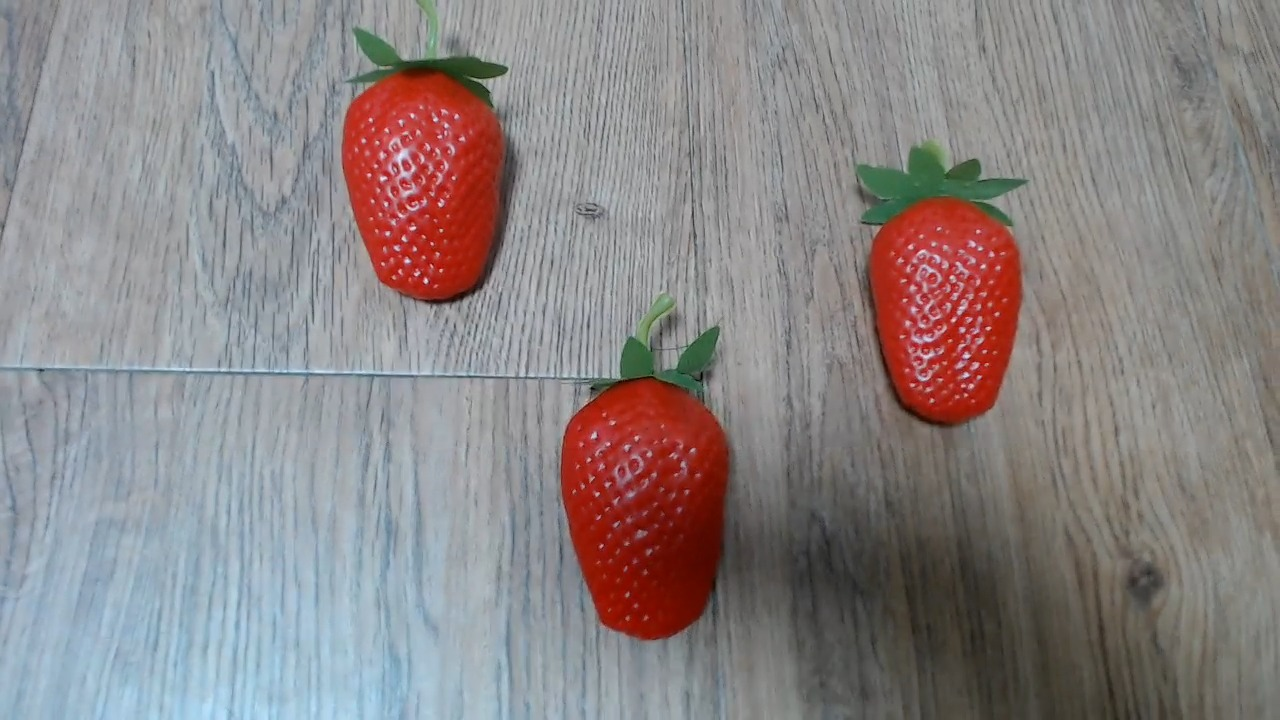strawberry: (544, 352, 745, 661), (836, 147, 1036, 437), (334, 26, 520, 307)
